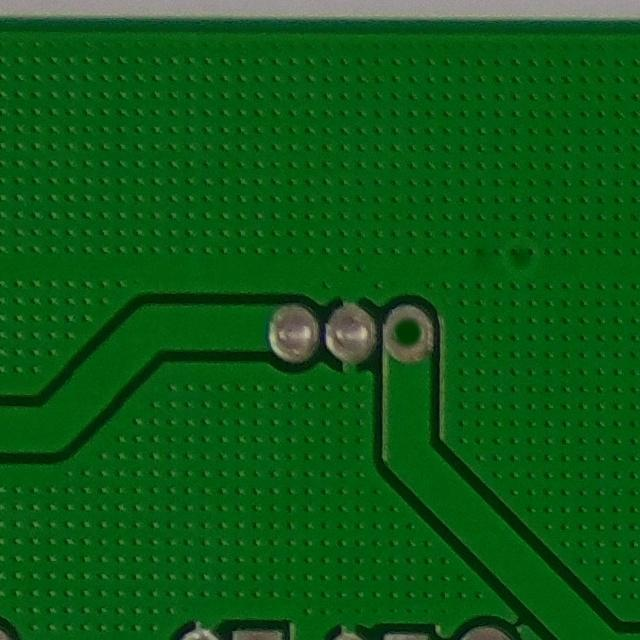missing_hole: (377, 292, 444, 369)
